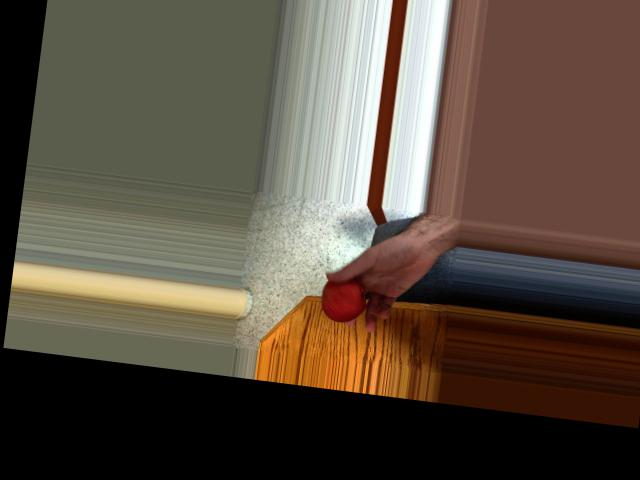apple: (317, 268, 377, 326)
